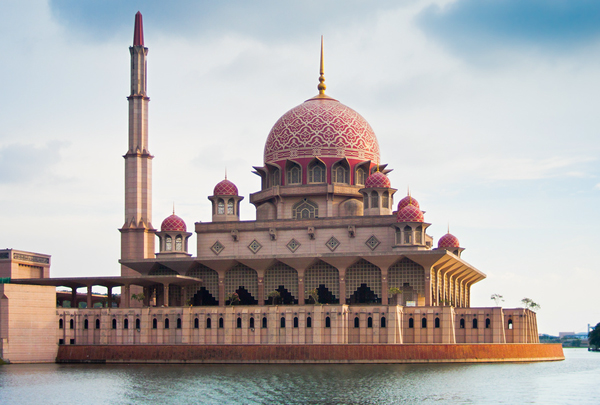Mosque: (66, 11, 478, 342)
